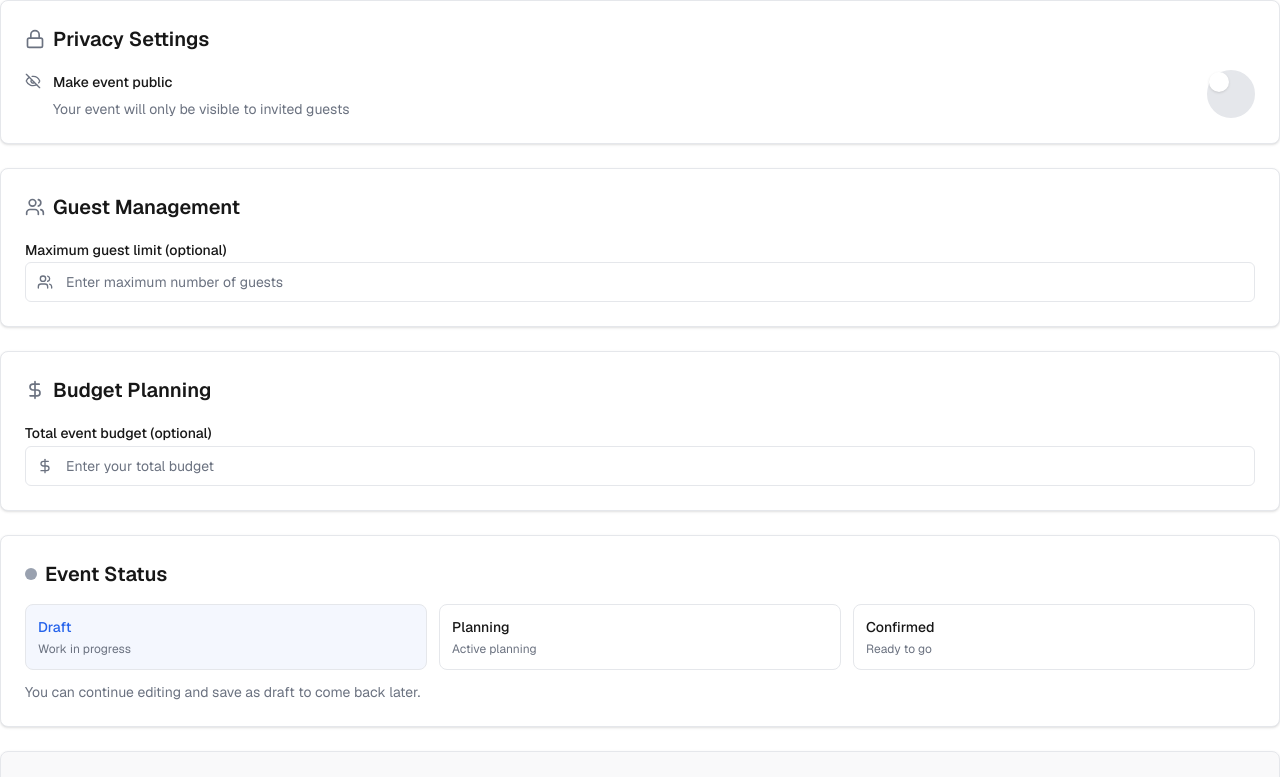
Scenario: SettingsStep › Privacy Settings › toggles privacy setting when clicked
Click the switch named "make event public" at x=1231, y=94, box 1207,70 -> 1255,118
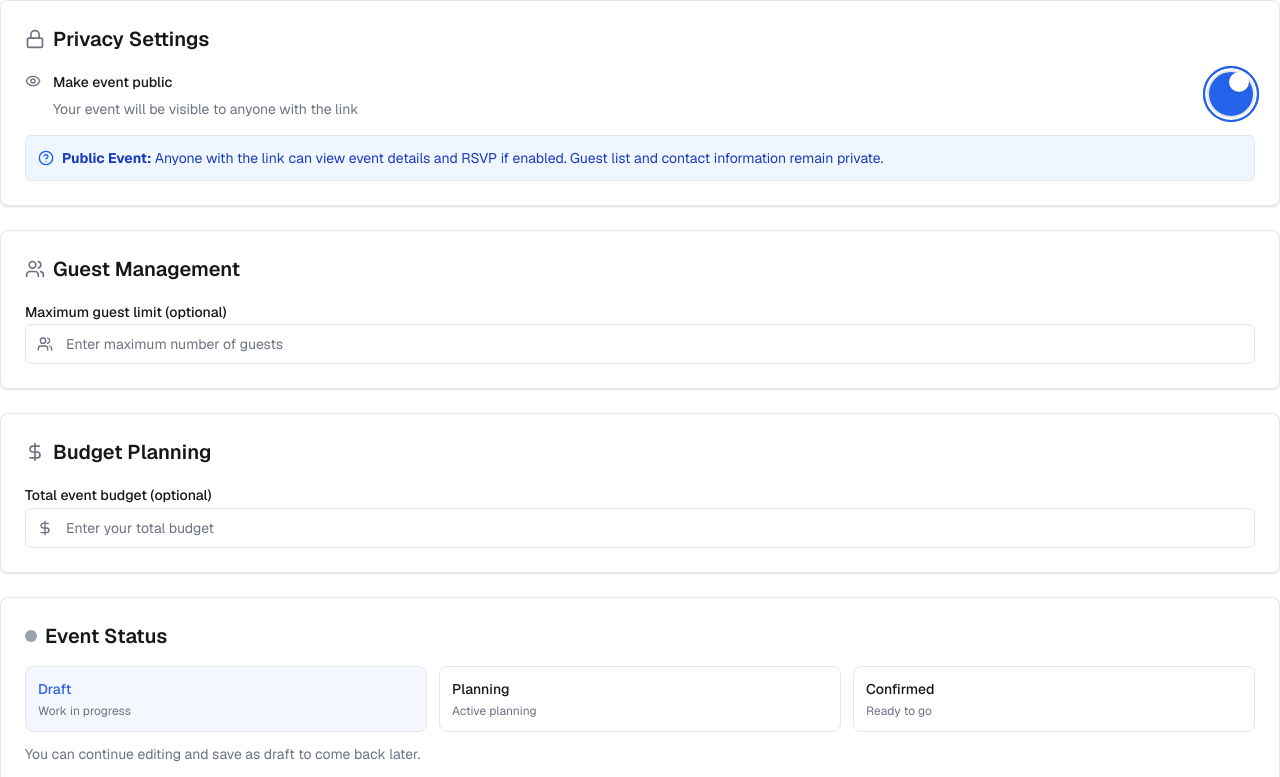
Expected: the text "Your event will be visible to anyone with the link" is shown, 53,99 -> 358,119
